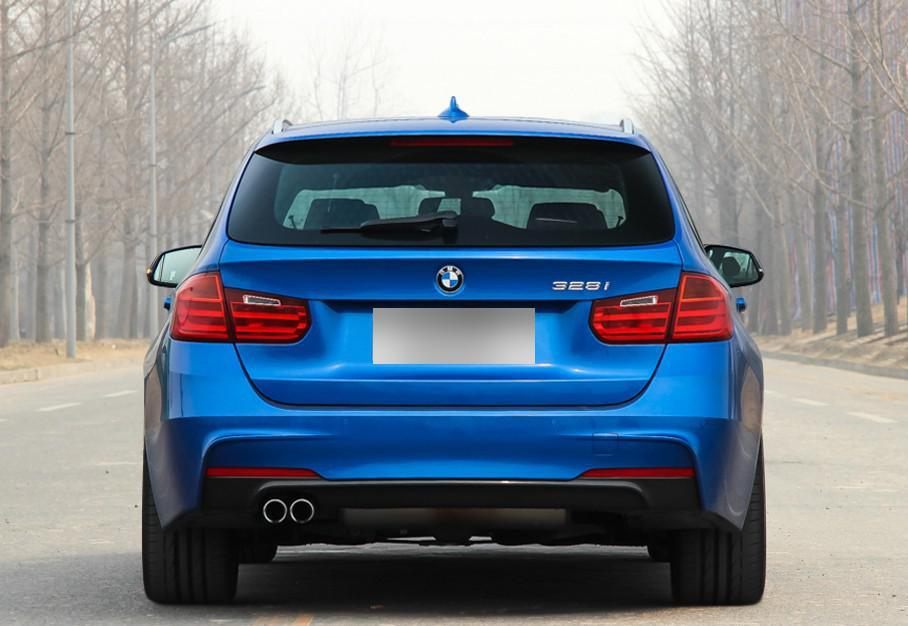Wagon: (142, 96, 767, 605)
